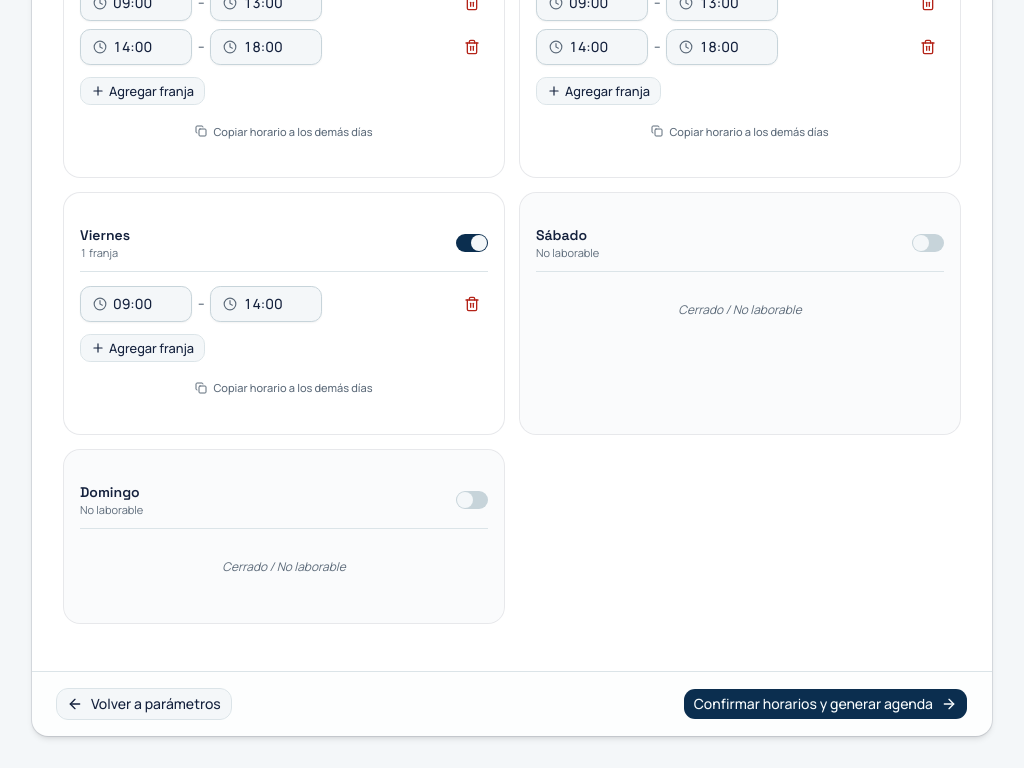
Test: OnboardingWizard Component › returns to Step 2 and does not show success when atomic initialization fails
(page scrolled)
Click the button "Confirmar horarios y generar agenda" at (825, 704), box [683, 688, 968, 720]
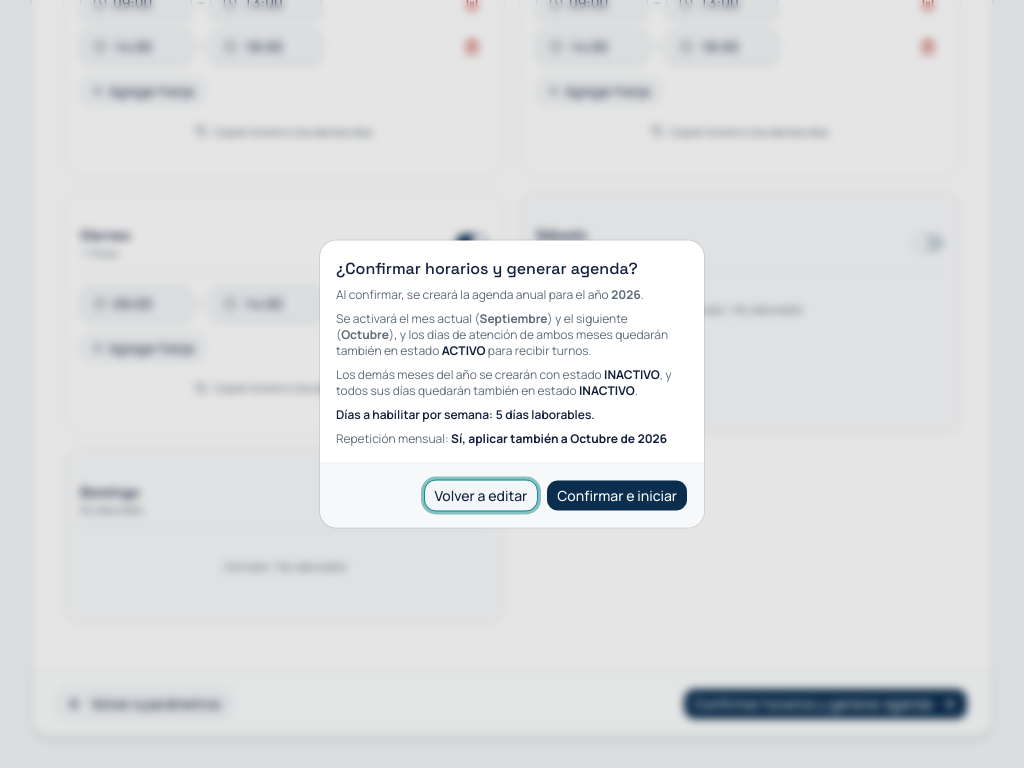
Click the button "Confirmar e iniciar" at (617, 496), box [546, 480, 688, 512]
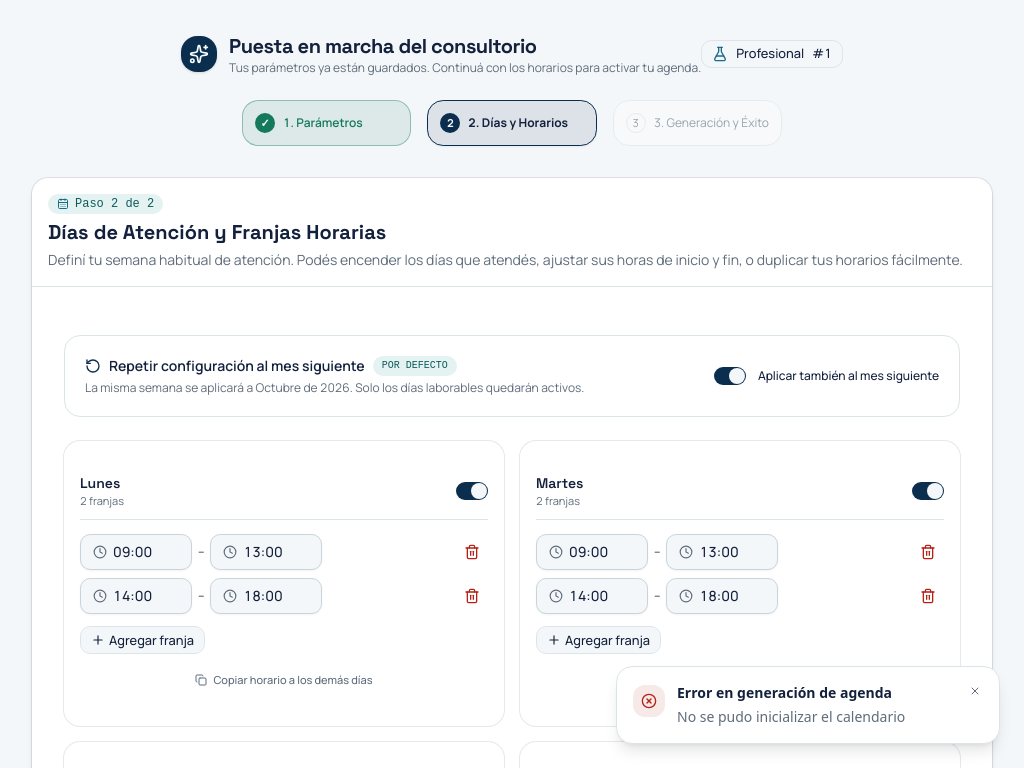
Expected: the text "Días de Atención y Franjas Horarias" is shown, [48, 219, 386, 245]
